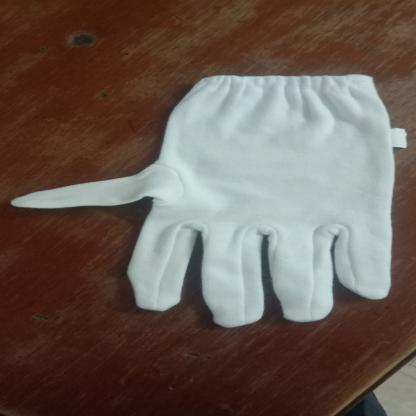gloved_hand: (9, 69, 404, 331)
